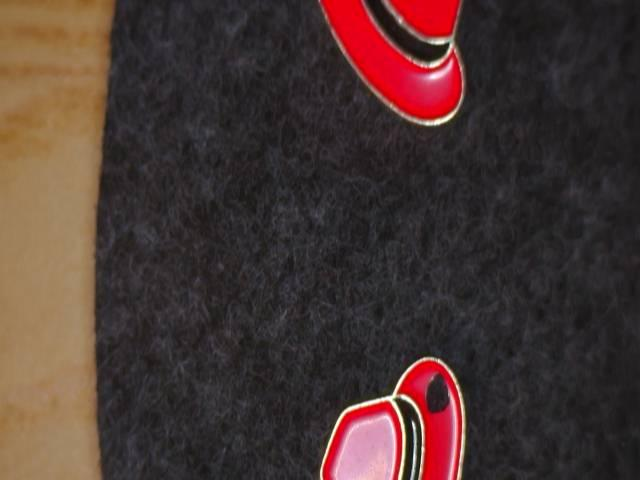Red-Hat: (304, 0, 490, 157), (296, 349, 481, 480)
Scratch: (418, 364, 456, 427)
